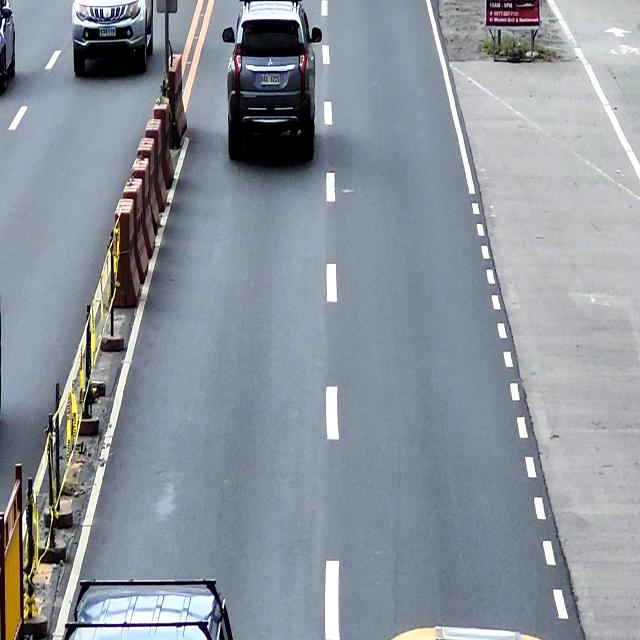Car: (222, 0, 324, 165), (66, 576, 235, 640), (70, 0, 154, 76), (0, 0, 19, 100)
License-Plate: (260, 72, 280, 86), (99, 25, 116, 37)
